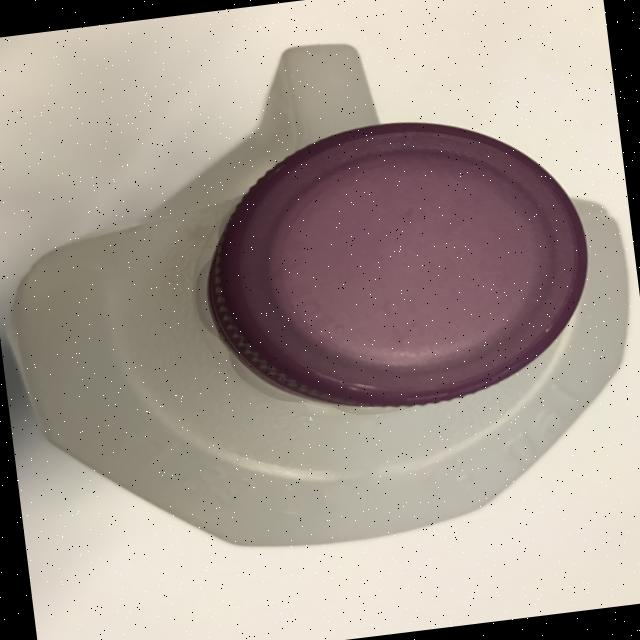plastic: (0, 8, 640, 579)
